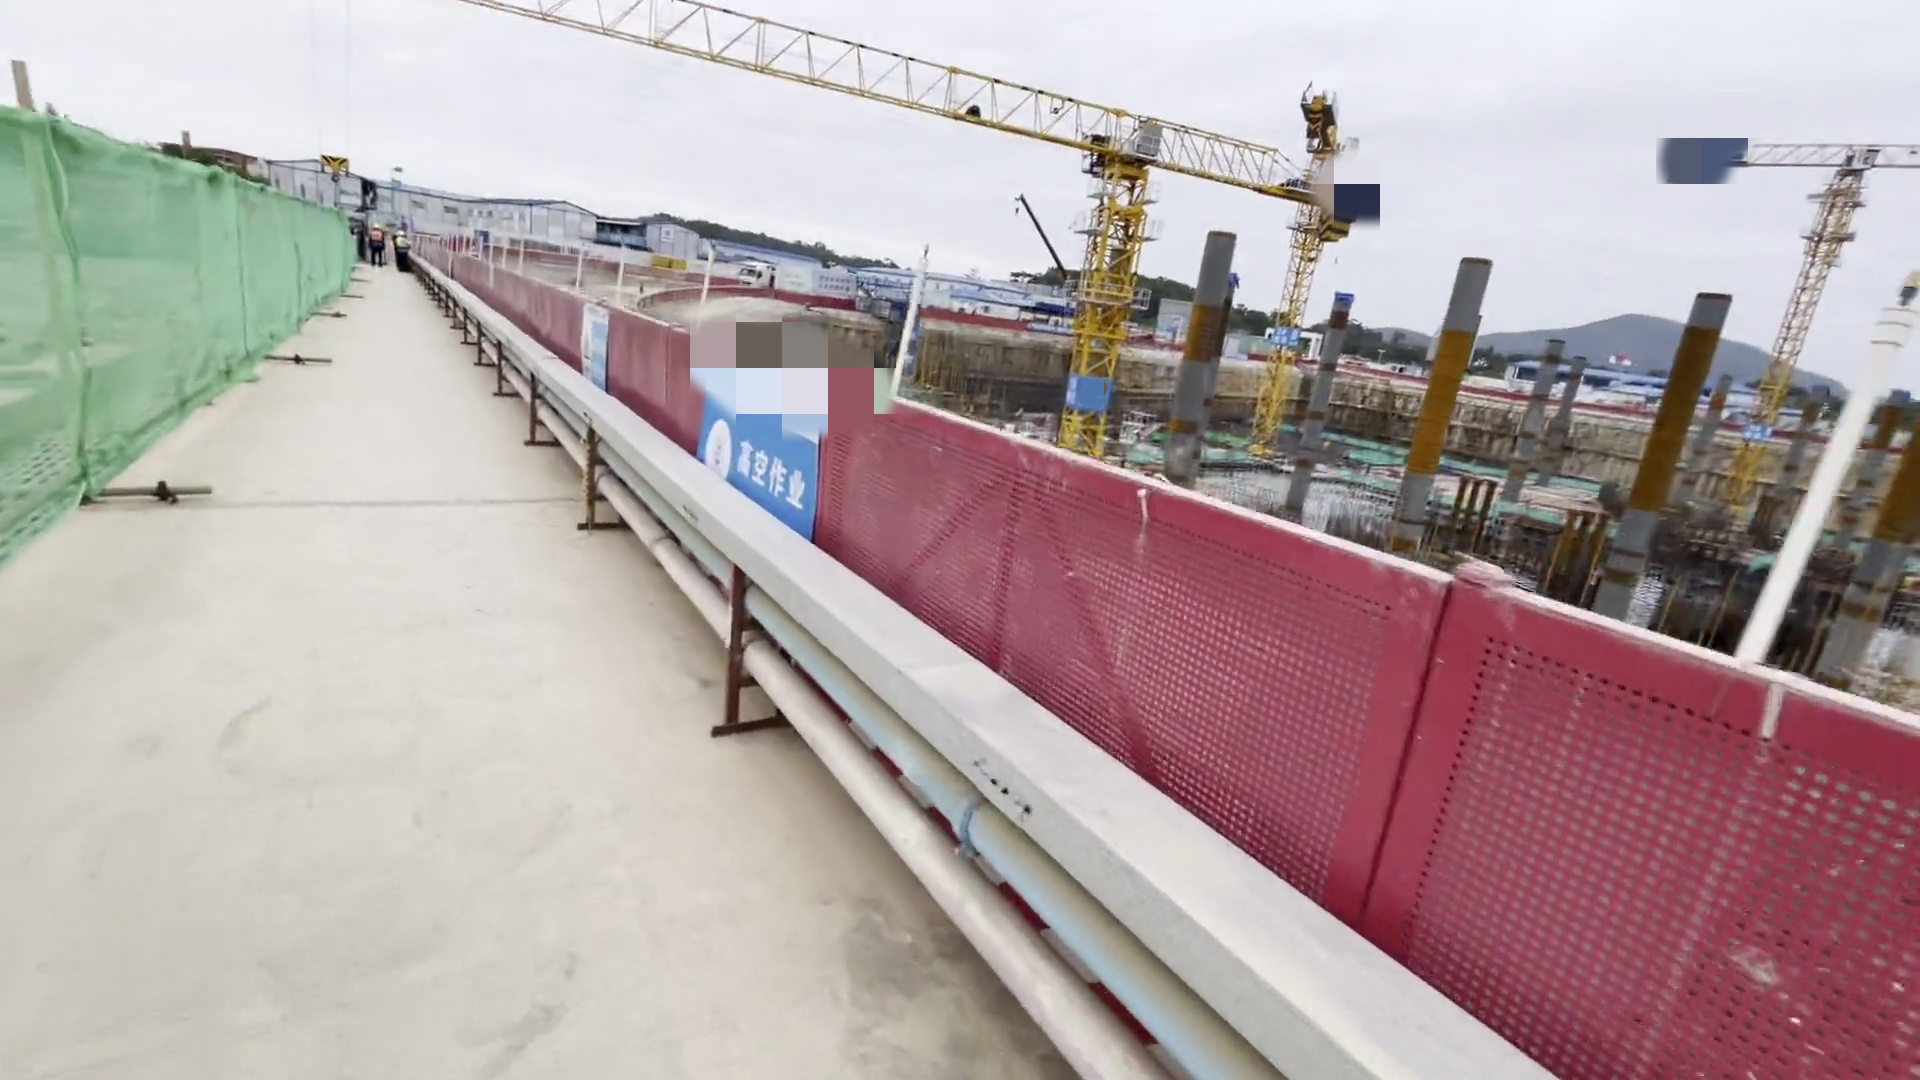fence: (346, 207, 1912, 1077)
hook: (315, 144, 371, 198)
person: (394, 226, 414, 277), (366, 219, 386, 267)
slogan: (709, 384, 825, 506), (559, 293, 636, 420)
vest: (395, 235, 413, 263), (370, 229, 384, 253)
